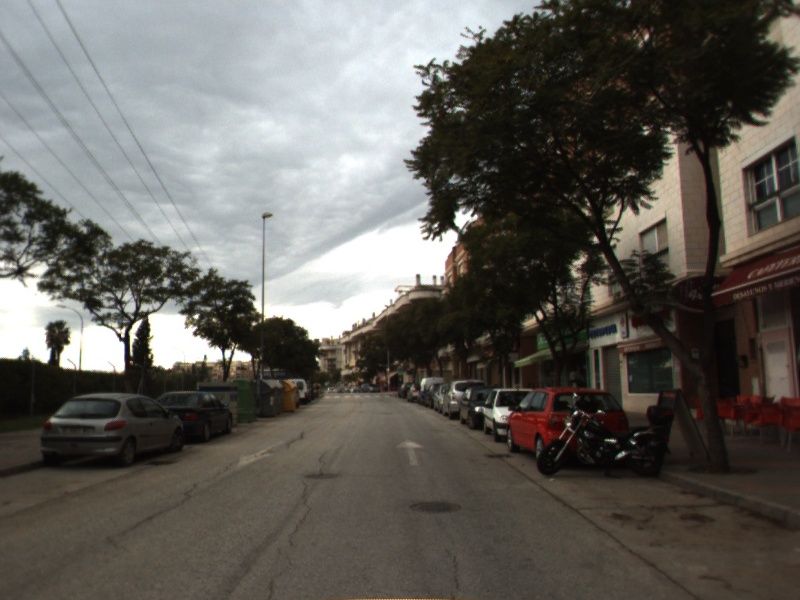STRAIGHT: (393, 436, 429, 467)
